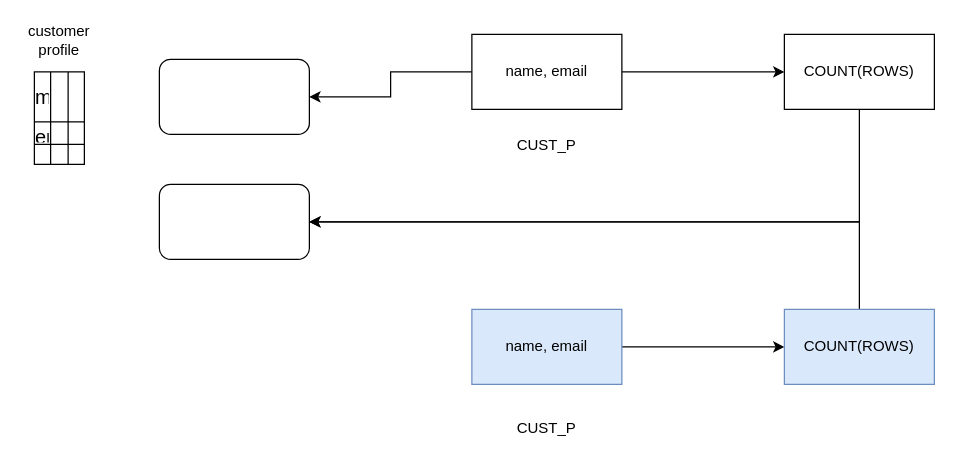
Image size: 956x468. Some labels were removed from this diagram. The shapes that lost their labels are listed below. From the top down, each one's centre as x and y in pixels, then its label:
the point at 233,96: name 80% complete email is 50%
the point at 233,221: Diff of Rows
